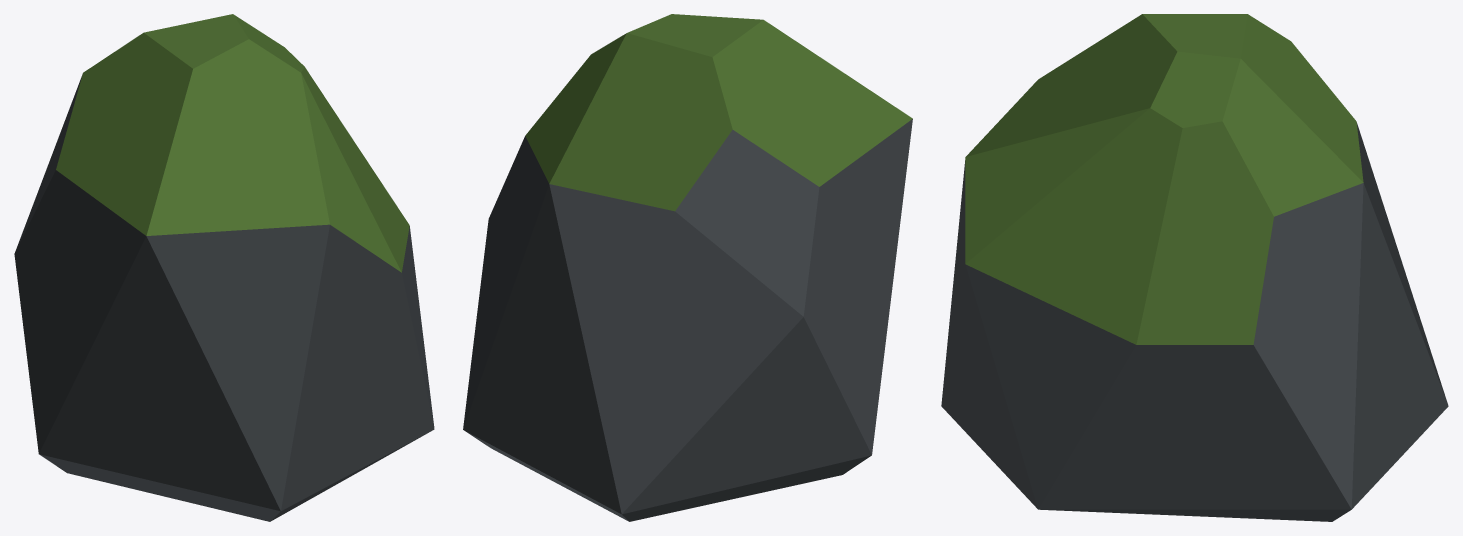
Rendered from Moss Rock_1.fbx.
The picture shows the model from 3 angles, left to right: view 1: azimuth 30°, elevation 25°; view 2: azimuth 150°, elevation 25°; view 3: azimuth 270°, elevation 25°; orthographic projection. The views are drawn at different scales.
Visible parts, largest first — view 1: Moss Rock 3; view 2: Moss Rock 3; view 3: Moss Rock 3.
Part boxes in pixels (x1=…): Moss Rock 3: x1=14, y1=14, x2=434, y2=521; Moss Rock 3: x1=463, y1=14, x2=912, y2=521; Moss Rock 3: x1=941, y1=14, x2=1448, y2=521.
Bounding box in the file's own units: 1.73 × 1.92 × 2.07.
